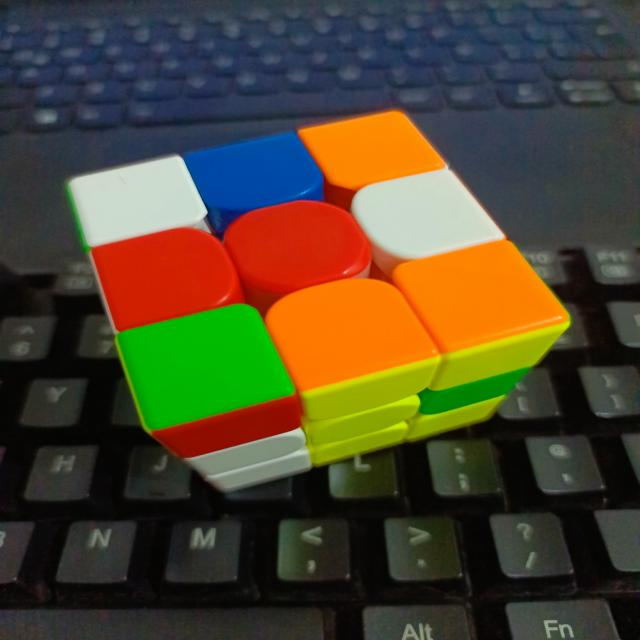rubik: (64, 107, 572, 492)
